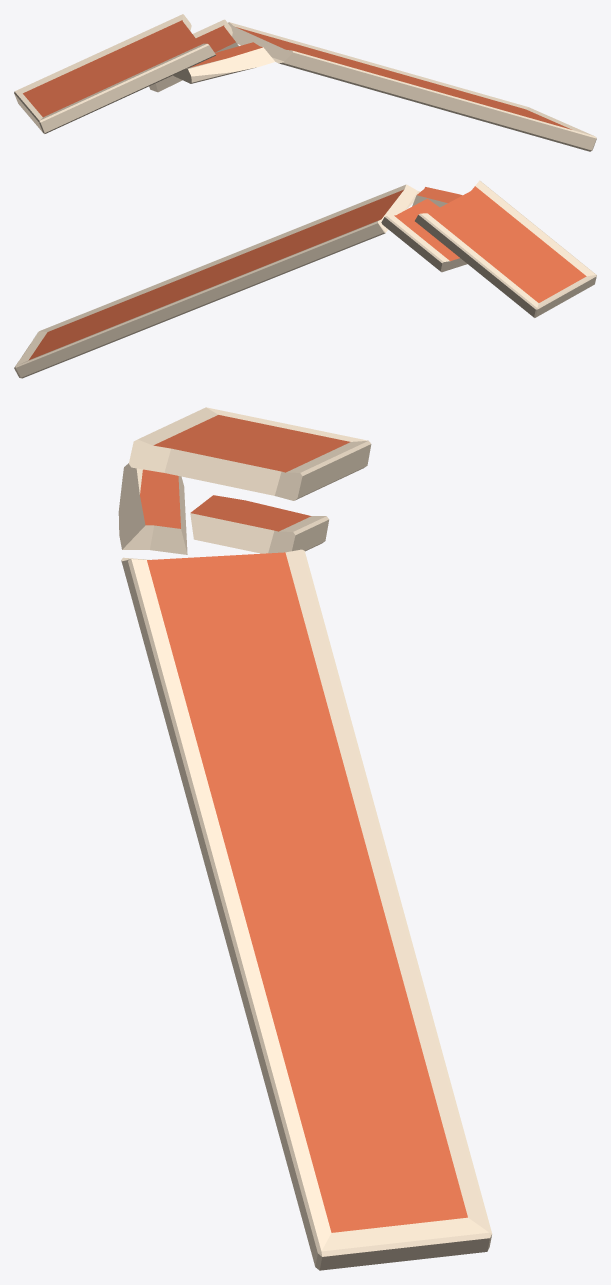
File: Broken_ramp.fbx
3 views of the same model, one above another, from view 1: azimuth 30°, elevation 25°; view 2: azimuth 150°, elevation 25°; view 3: azimuth 270°, elevation 25° (orthographic). The views are drawn at different scales.
Parts seen in each view (by area): view 1: Broken_ramp_C; view 2: Broken_ramp_C; view 3: Broken_ramp_C.
Part boxes in pixels (bbox=[...]): Broken_ramp_C: bbox=[14, 14, 596, 151]; Broken_ramp_C: bbox=[14, 180, 596, 378]; Broken_ramp_C: bbox=[118, 407, 492, 1270].
Bounding box in the file's own units: 3606 × 1463 × 1100.
